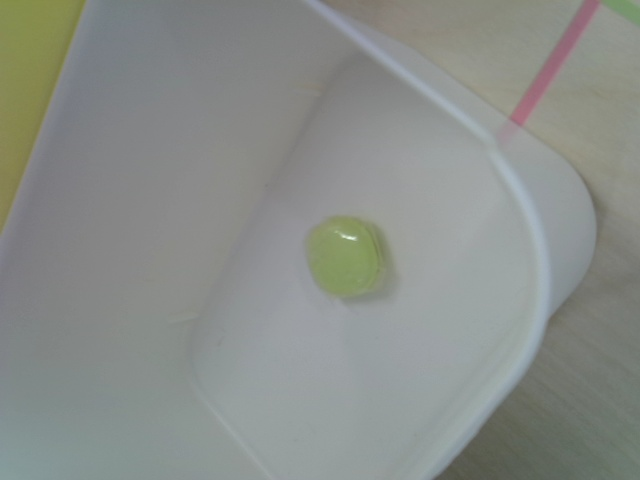씨앗: (306, 216, 384, 296)
